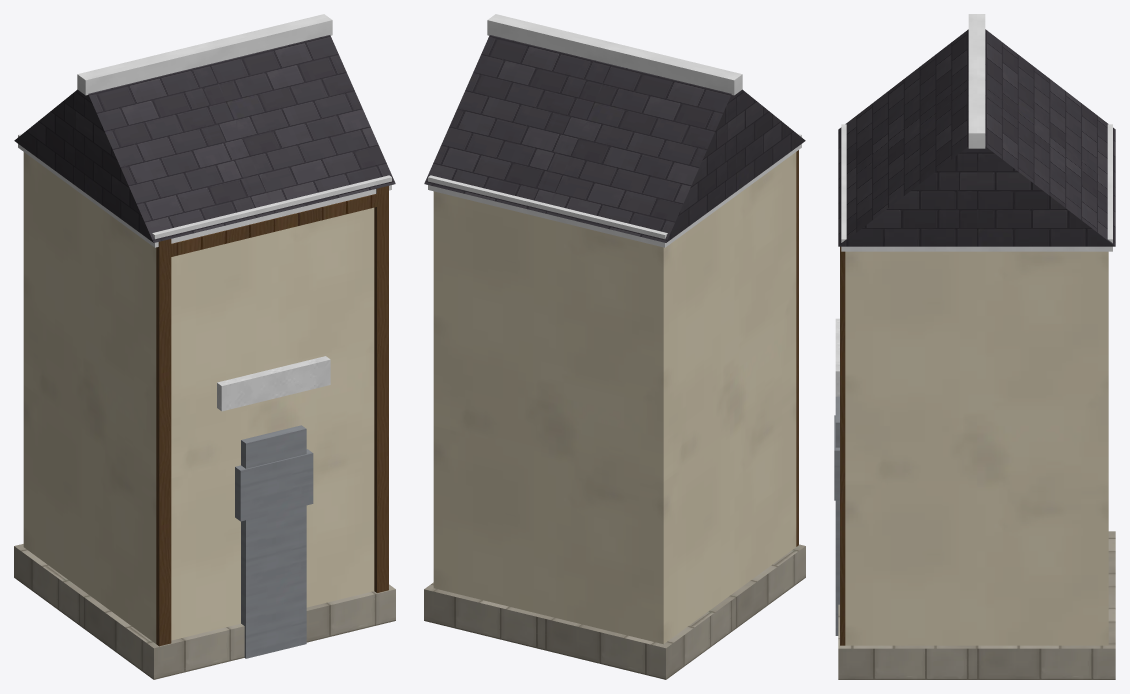
The model's file is category.lending.t4.glb.
3 views of the same model, side by side, from view 1: azimuth 30°, elevation 25°; view 2: azimuth 150°, elevation 25°; view 3: azimuth 270°, elevation 25° (orthographic).
Parts seen in each view (by area): view 1: building.category.lending.t4; view 2: building.category.lending.t4; view 3: building.category.lending.t4.
Boxes of the visible parts, left/top/right/bottom form: building.category.lending.t4: left=14, top=14, right=395, bottom=679; building.category.lending.t4: left=424, top=14, right=805, bottom=679; building.category.lending.t4: left=834, top=14, right=1115, bottom=679.
Bounding box in the file's own units: 2.04 × 4.36 × 2.03.
Materials: 7 (7 with a texture image).
